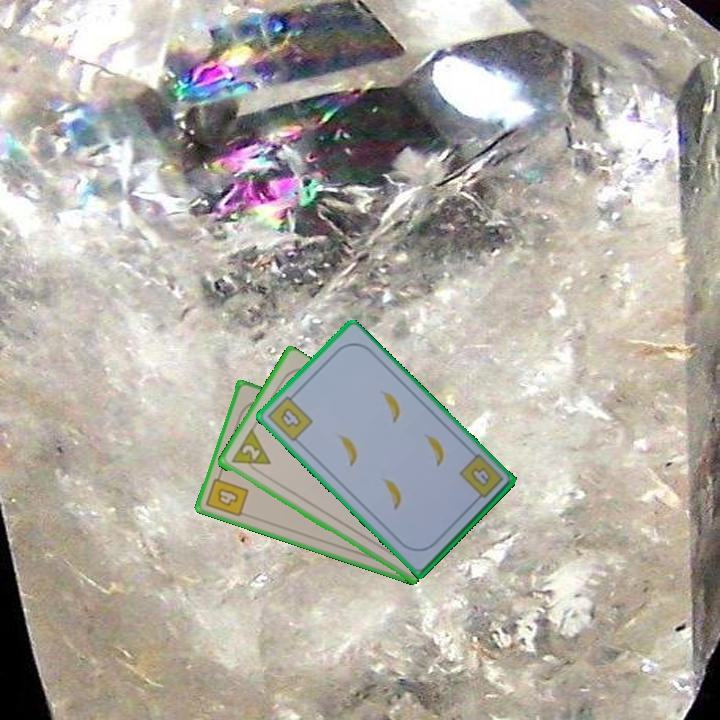2p: (227, 427, 273, 477)
4b: (264, 389, 316, 444), (455, 450, 506, 506), (202, 468, 251, 520)
